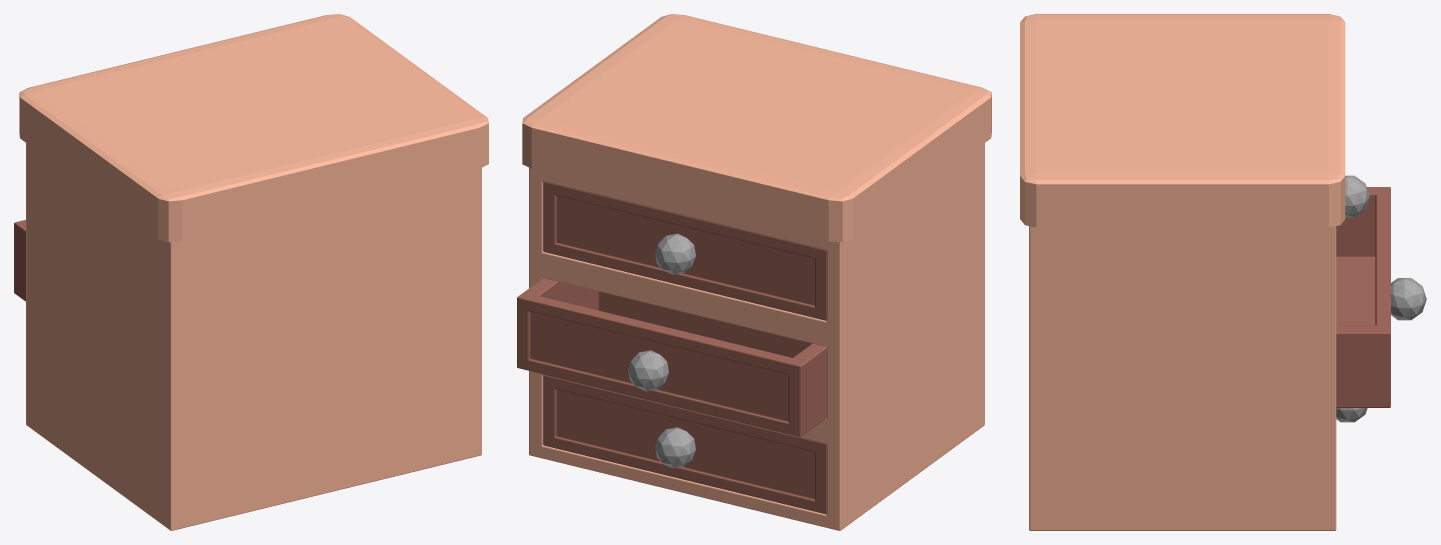
The model's file is Bedside_table_1.glb.
The picture shows the model from 3 angles, left to right: view 1: azimuth 30°, elevation 25°; view 2: azimuth 150°, elevation 25°; view 3: azimuth 270°, elevation 25°; orthographic projection. The views are drawn at different scales.
Parts seen in each view (by area): view 1: Bedside_table_1; view 2: Bedside_table_1; view 3: Bedside_table_1.
Part boxes in pixels (x1,y1,x2,y2): Bedside_table_1: [14, 14, 488, 530]; Bedside_table_1: [517, 14, 991, 530]; Bedside_table_1: [1020, 14, 1426, 530].
Bounding box in the file's own units: 1.17 × 1.14 × 1.18.
